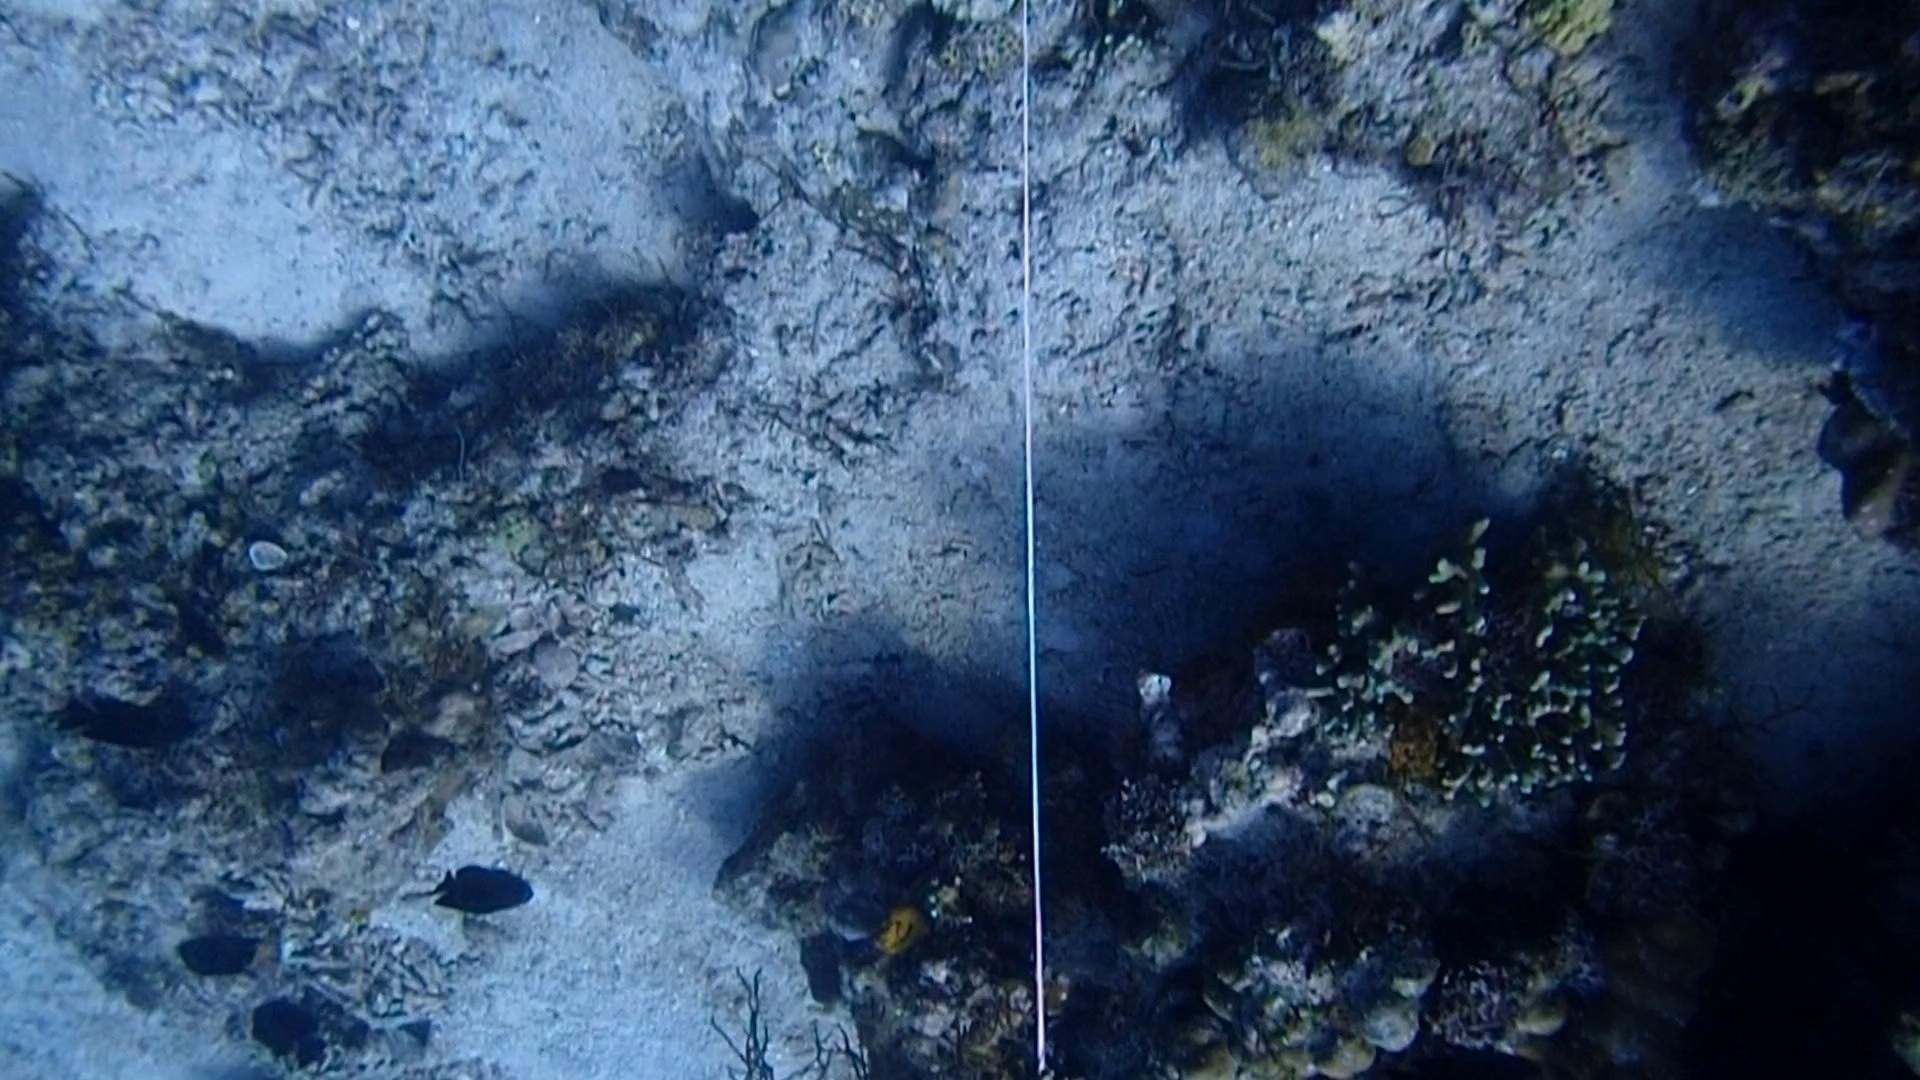Dark Fish: (57, 692, 206, 769), (239, 989, 338, 1072), (161, 583, 248, 674), (425, 861, 537, 923), (161, 931, 256, 981)
